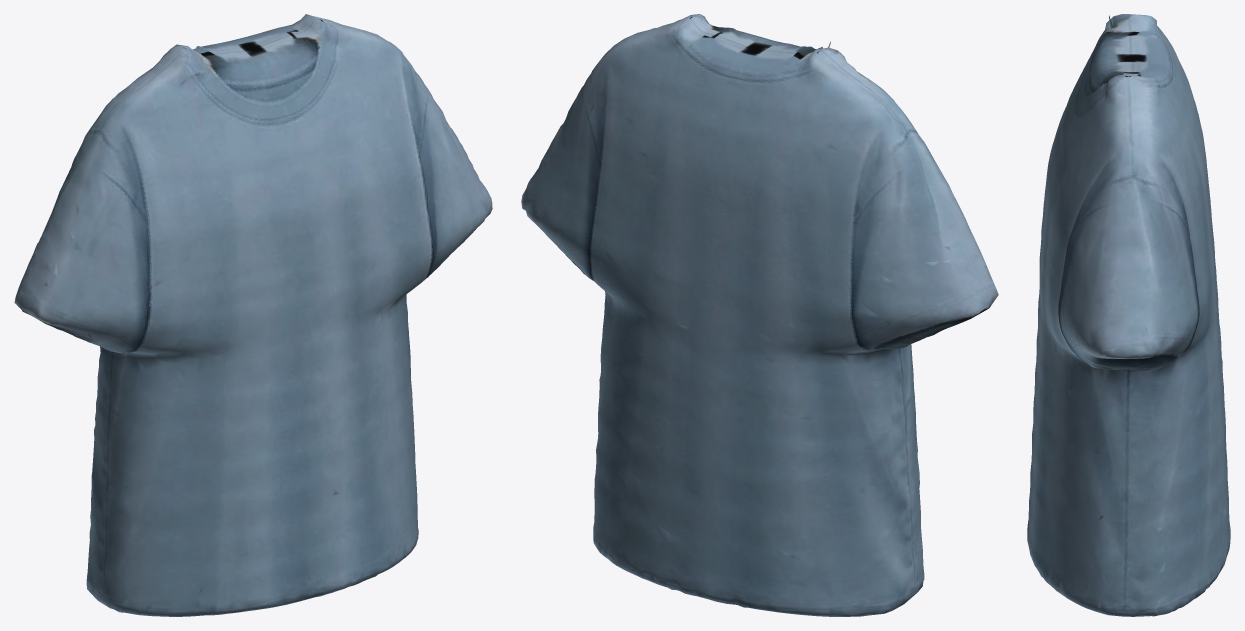
File: sky-product.glb
3 views of the same model, side by side, from view 1: azimuth 30°, elevation 25°; view 2: azimuth 150°, elevation 25°; view 3: azimuth 270°, elevation 25° (orthographic). The views are drawn at different scales.
Visible parts, largest first — view 1: geometry_0; view 2: geometry_0; view 3: geometry_0.
Part boxes in pixels (left/top/right/bottom): geometry_0: left=14, top=14, right=492, bottom=616; geometry_0: left=521, top=14, right=998, bottom=616; geometry_0: left=1027, top=14, right=1230, bottom=616.
Size of the model in its own units: 0.6382 by 0.7127 by 0.2575.
1 material, 1 textured.
